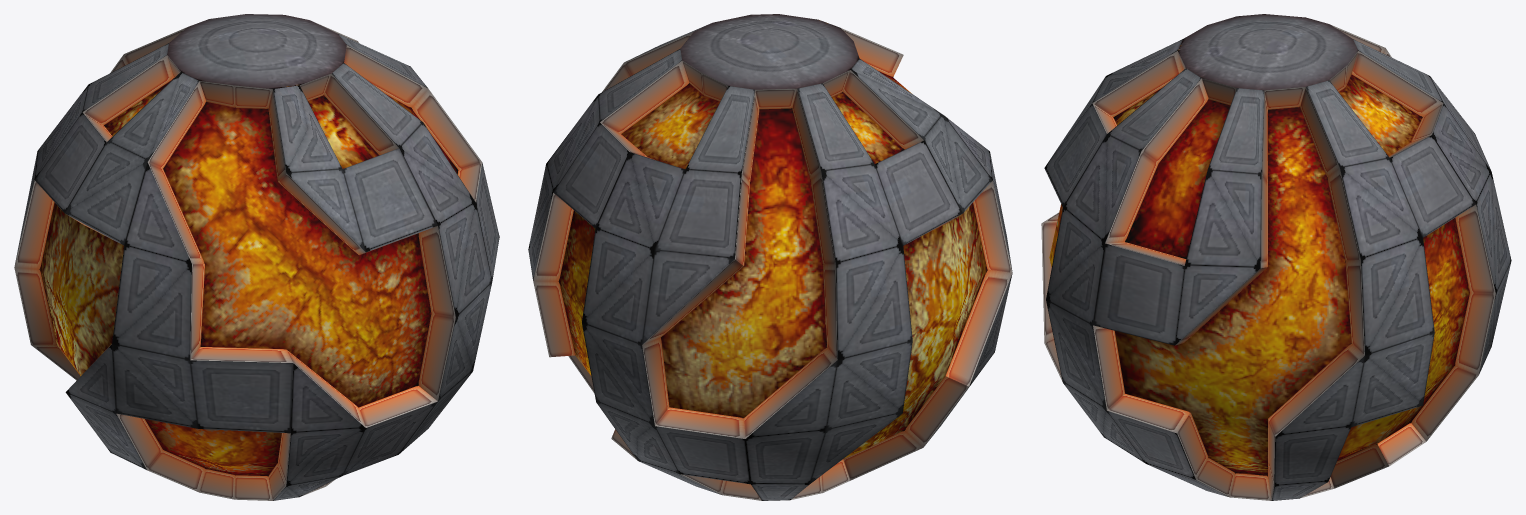
File: Artifact02.FBX
3 renders of one model, left to right at view 1: azimuth 30°, elevation 25°; view 2: azimuth 150°, elevation 25°; view 3: azimuth 270°, elevation 25°, orthographic.
Visible parts, largest first — view 1: Artifact02; view 2: Artifact02; view 3: Artifact02.
Boxes of the visible parts, x1=… form: Artifact02: x1=14, y1=14, x2=499, y2=500; Artifact02: x1=528, y1=14, x2=1012, y2=500; Artifact02: x1=1041, y1=14, x2=1511, y2=500.
Size of the model in its own units: 23.73 by 25.76 by 24.77.
